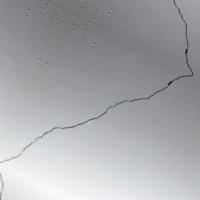crack: (0, 0, 199, 170)
